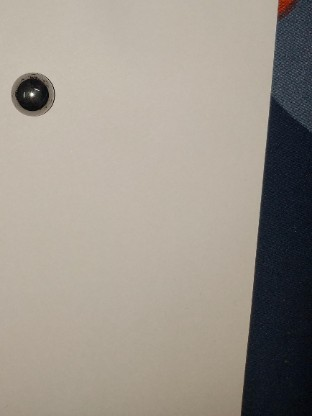ironball: (9, 70, 63, 118)
